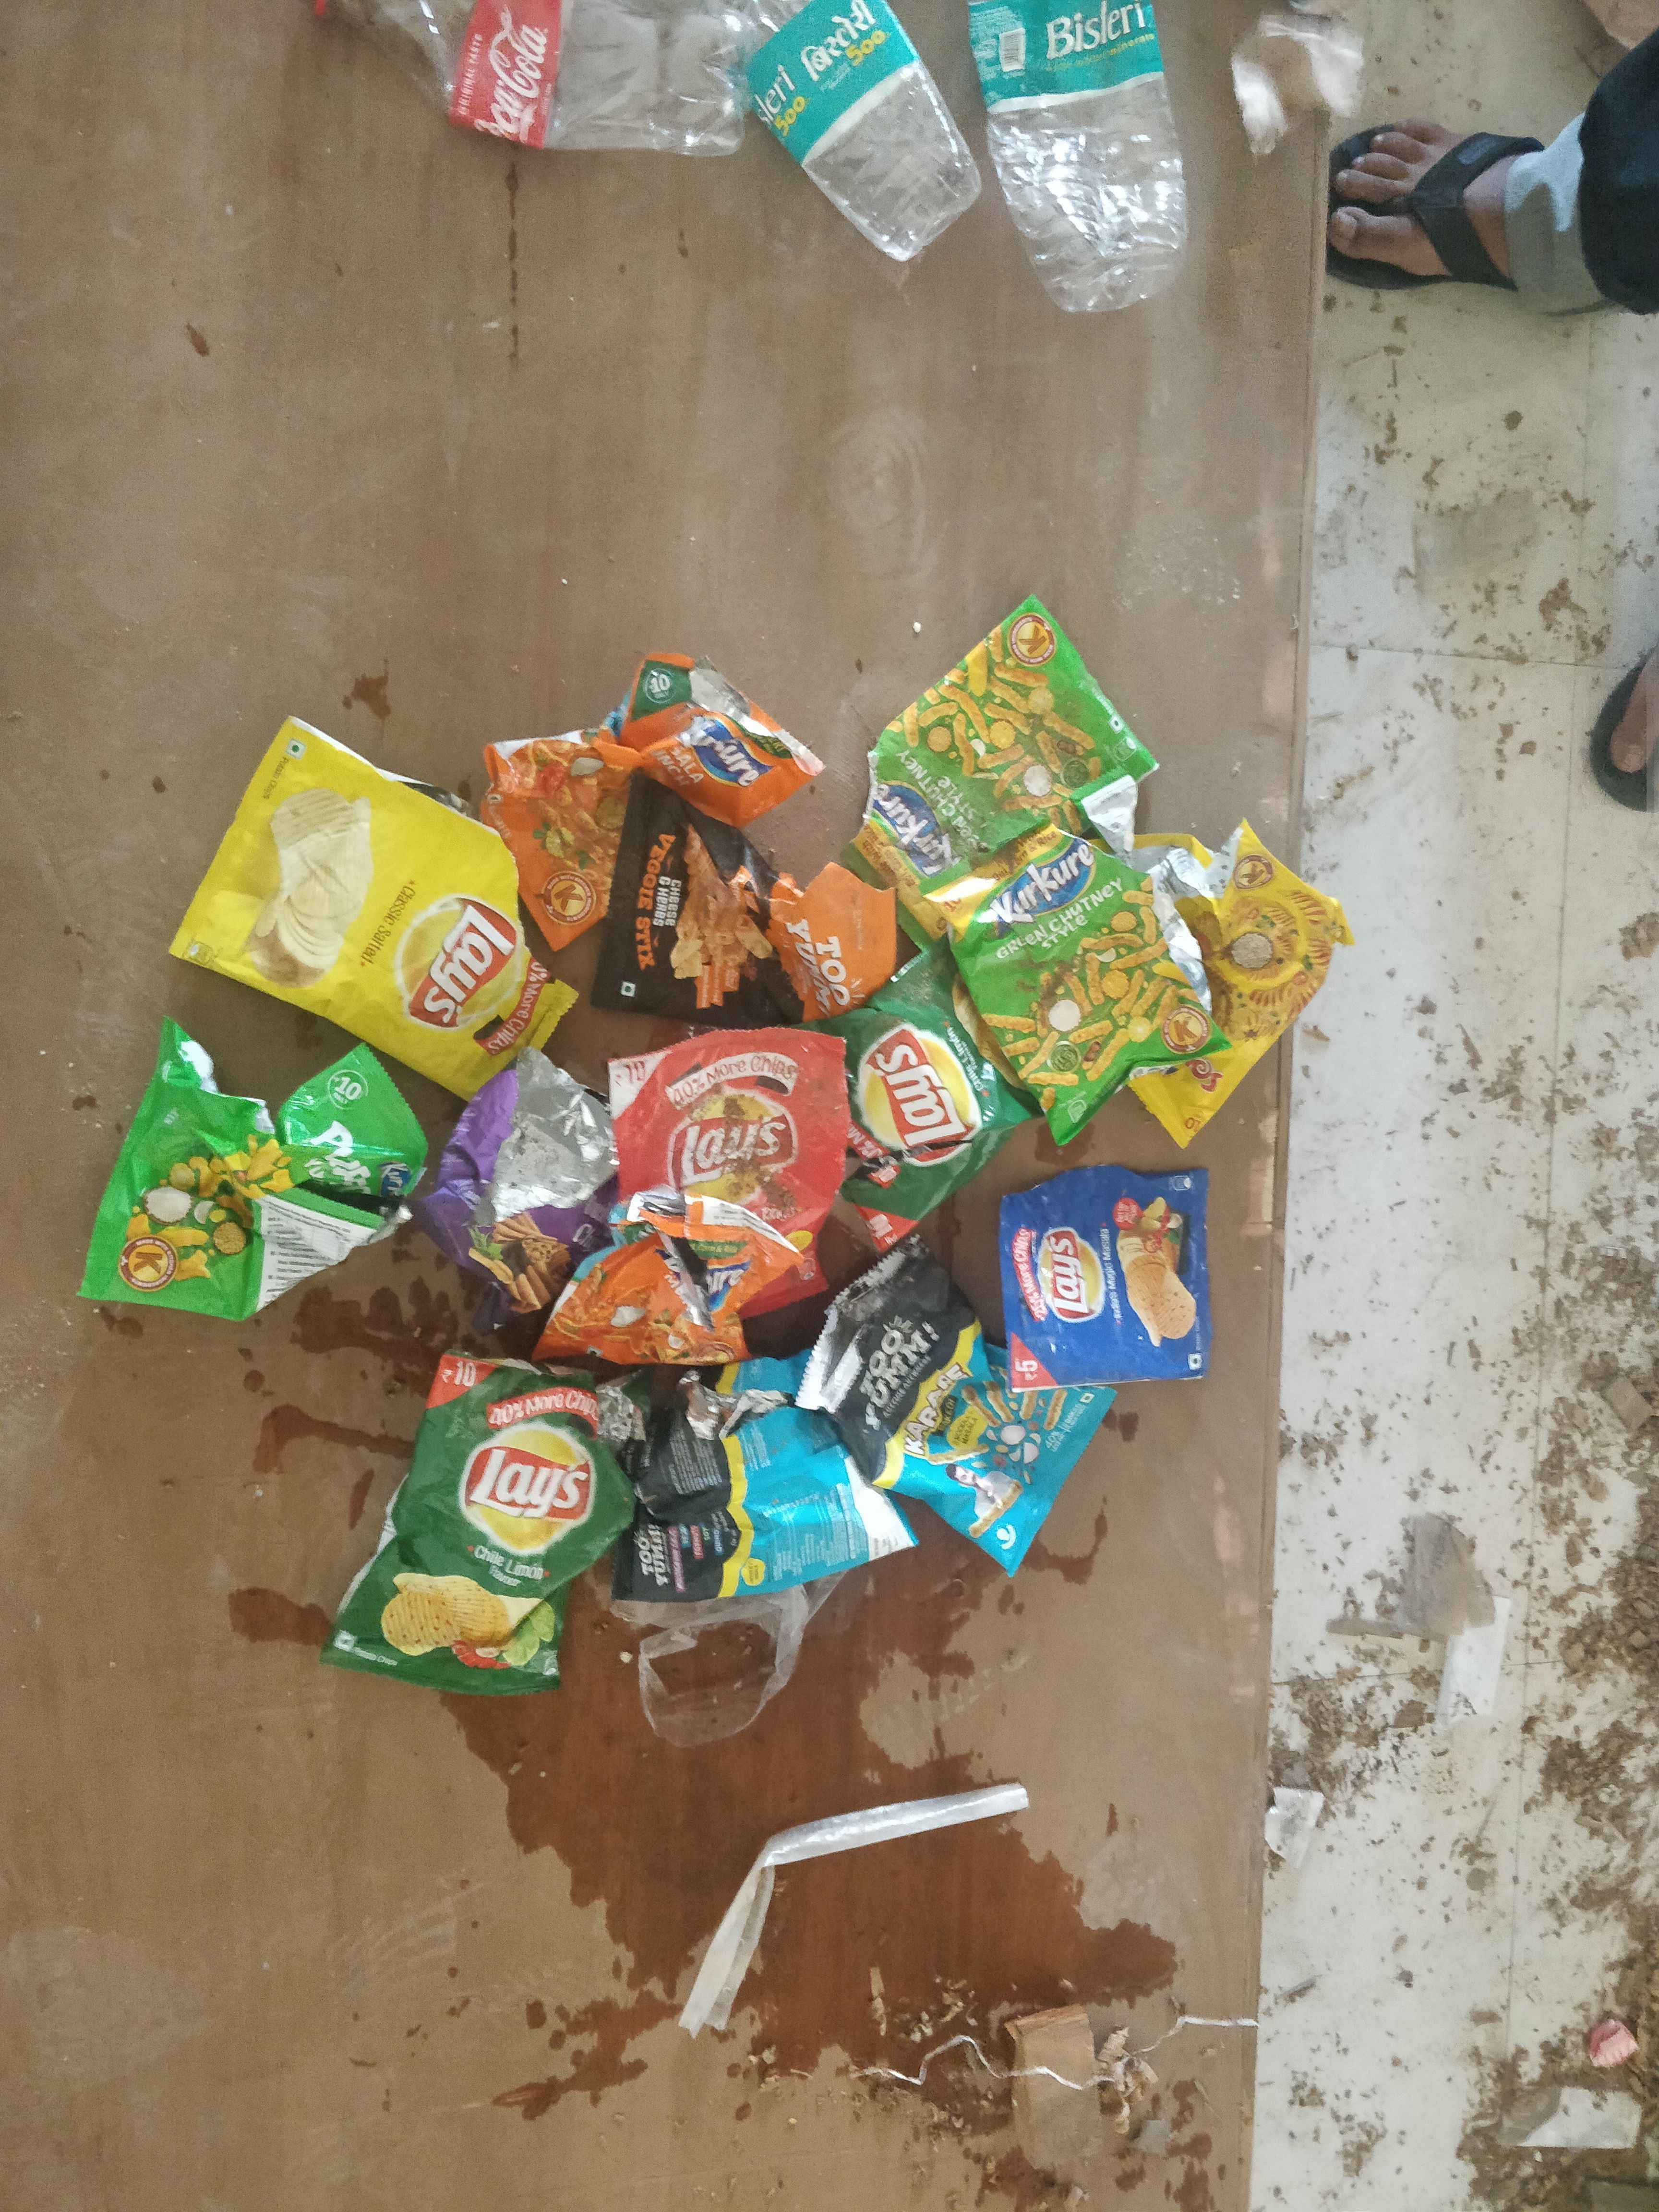Bisleri: (762, 0, 894, 145), (979, 0, 1133, 96)
Coca-Cola: (471, 0, 549, 152)
Lays: (451, 1409, 617, 1557), (383, 888, 521, 1038), (854, 1024, 983, 1169), (655, 1097, 826, 1200), (1035, 1214, 1127, 1334)
kurkure: (979, 813, 1096, 939), (868, 775, 1000, 874), (671, 712, 775, 808), (350, 1141, 411, 1224)
tooyumm: (847, 1306, 946, 1423), (620, 1508, 699, 1597)
